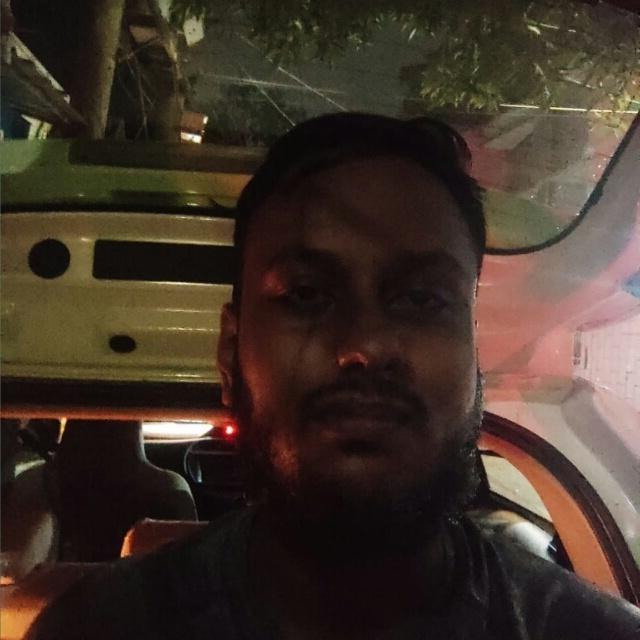Natural: (189, 136, 508, 532)
